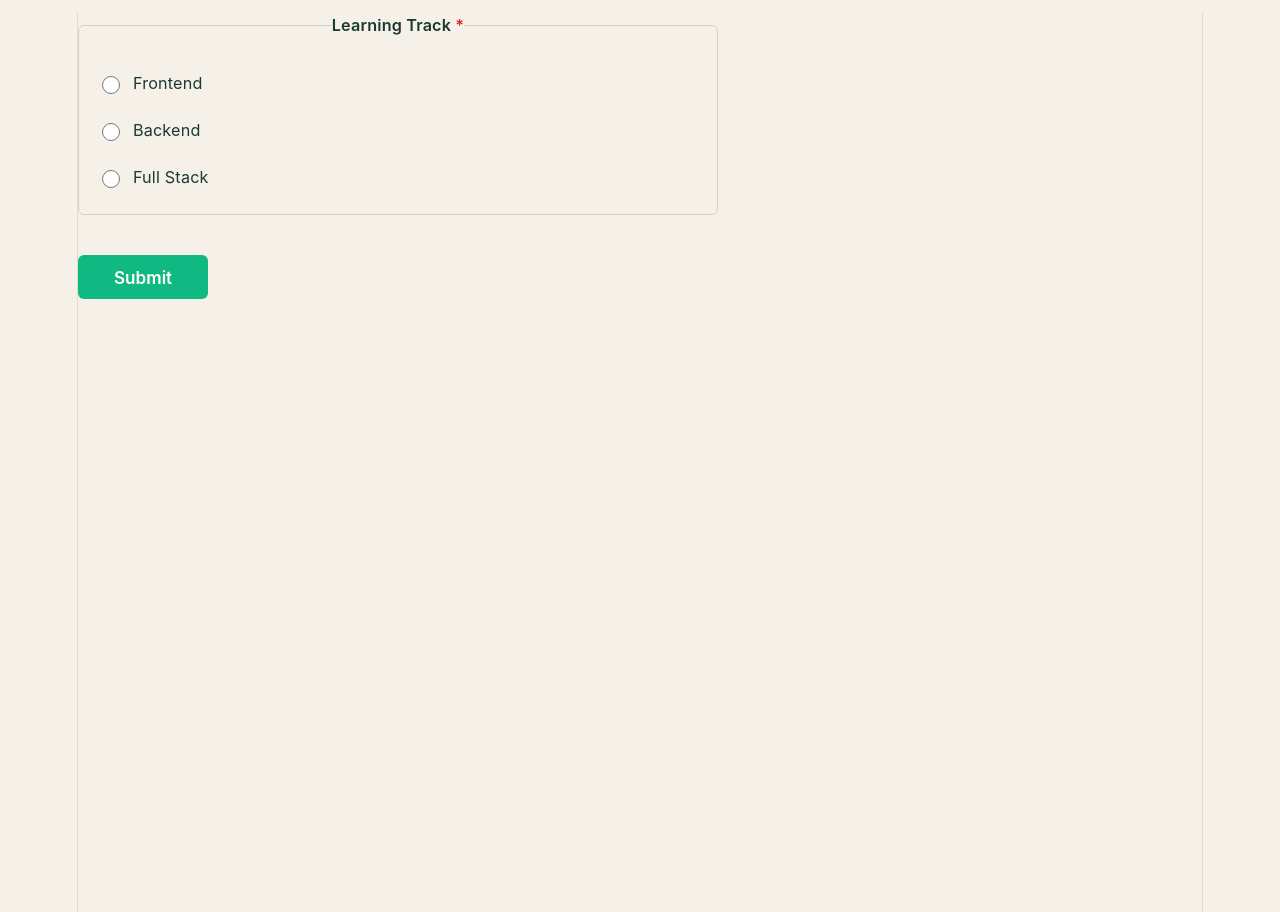
Scenario: QuestionRenderer — submit disabled when invalid › 9. blocks submission when required radio has no selection
Click the button "Submit": (143,277) [78, 255, 208, 299]
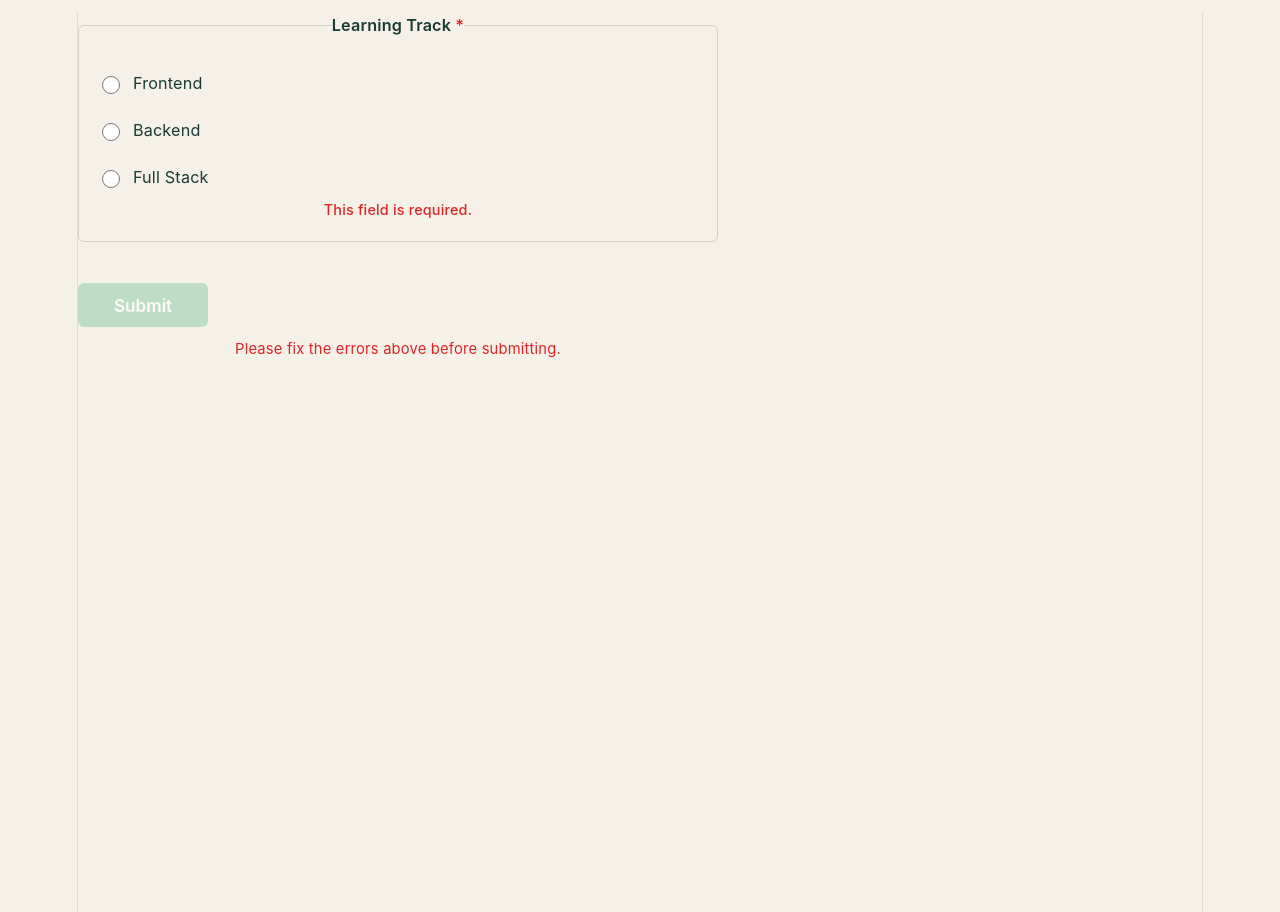
expect the button "Submit" is disabled: met, box [78, 283, 208, 327]
